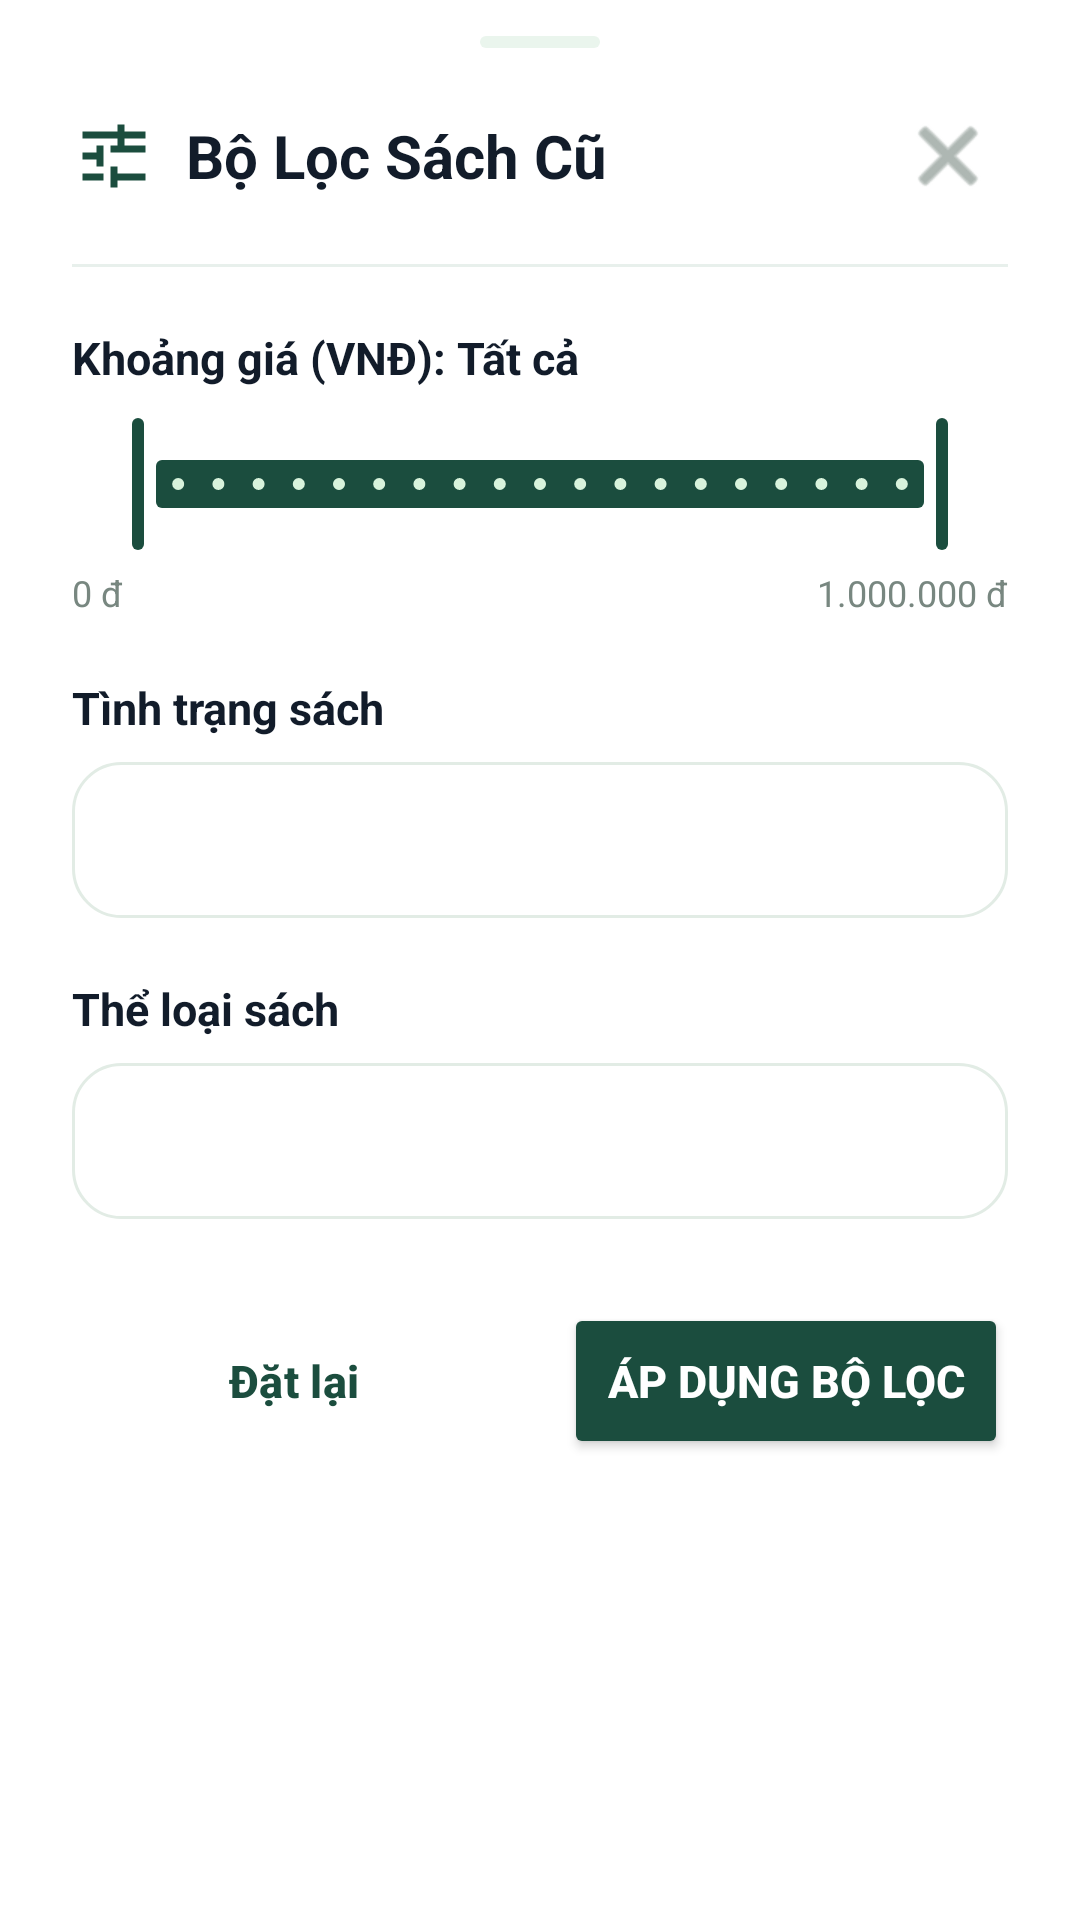

Screen size 1080w x 1920h. Icon name, then its center in pixels as (x=x, y=y):
Close: (x=948, y=156)
Filter: (x=114, y=156)
